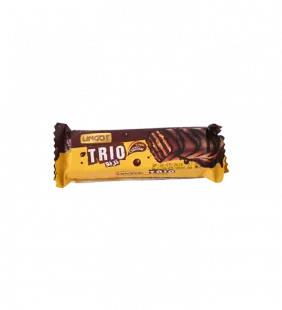LINGOT: (44, 116, 236, 196)
